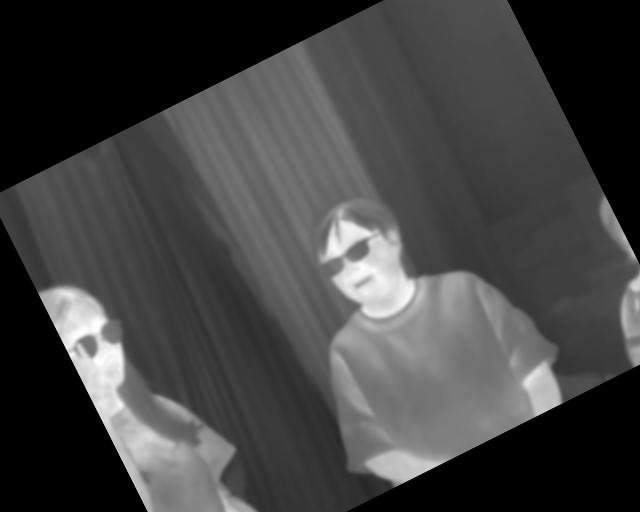face: (296, 179, 426, 318), (37, 267, 141, 400)
